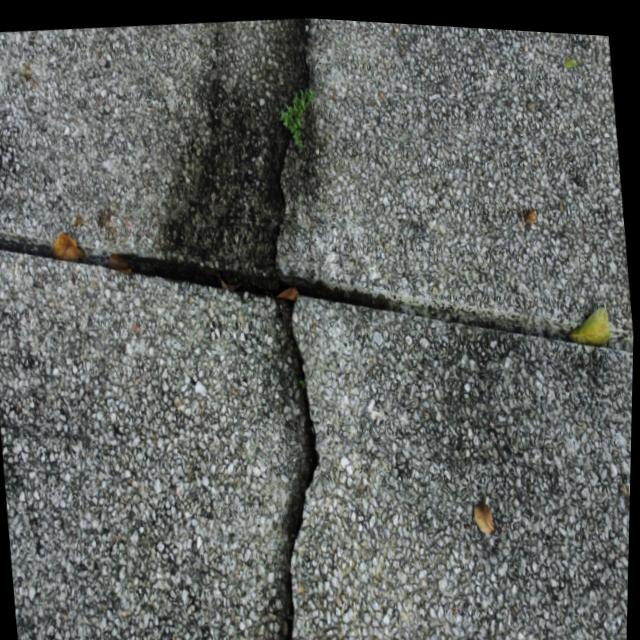Crack: (182, 9, 374, 640)
